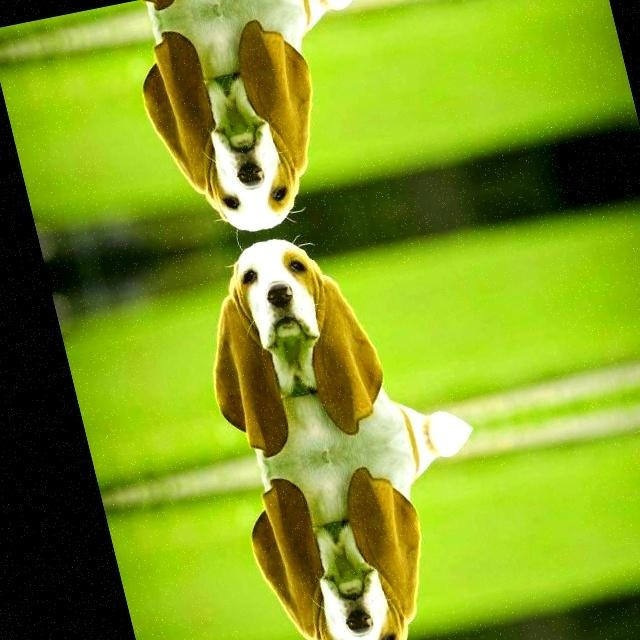dog: (196, 222, 372, 433), (151, 36, 326, 247), (260, 484, 435, 640)
